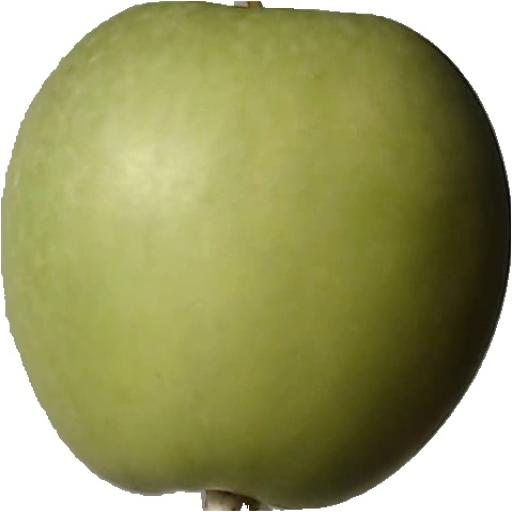apple-unripe: (0, 0, 504, 512)
